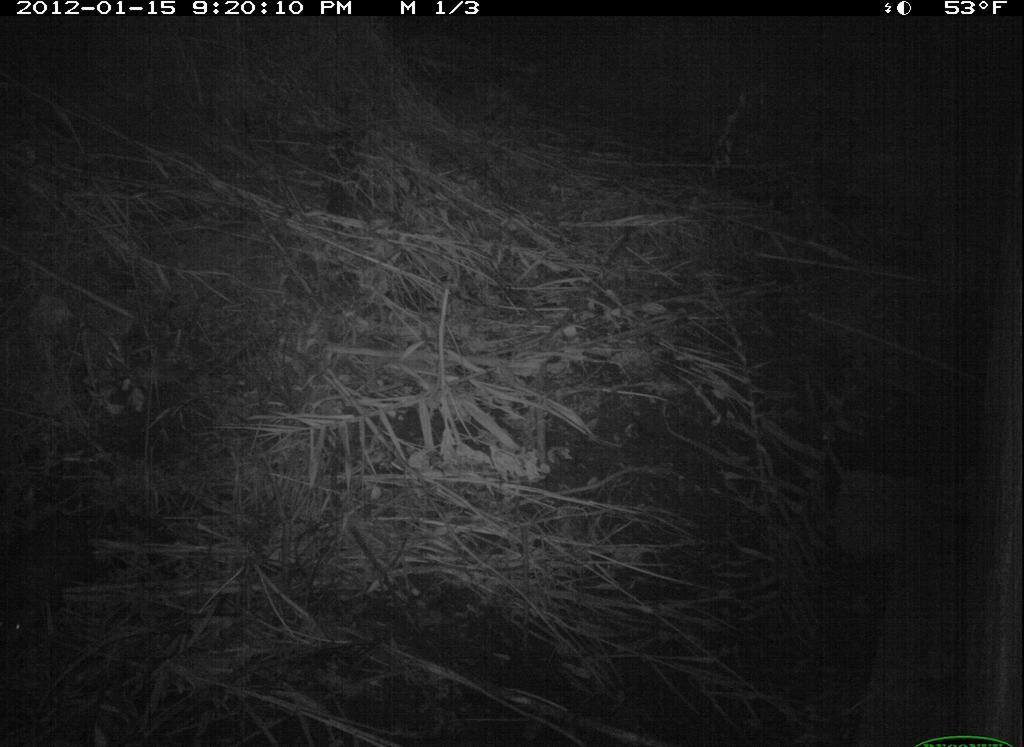opossum: (1, 504, 107, 670)
